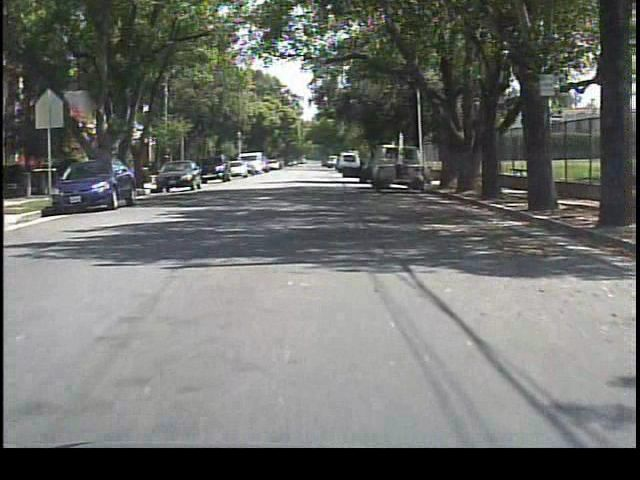person: (357, 159, 373, 187)
